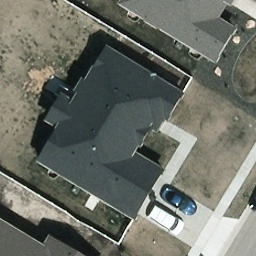car: (144, 207, 189, 234), (159, 188, 201, 212)
